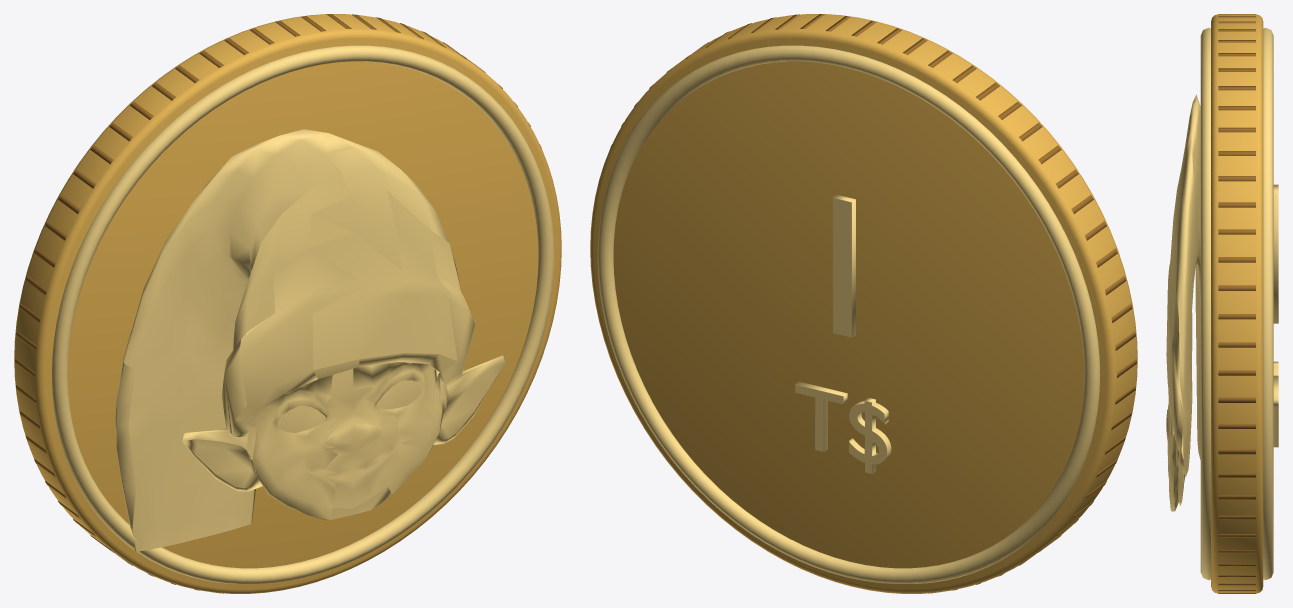
Rendered from coin-1.glb.
3 views of the same model, side by side, from view 1: azimuth 30°, elevation 25°; view 2: azimuth 150°, elevation 25°; view 3: azimuth 270°, elevation 25° (orthographic). The views are drawn at different scales.
Visible parts, largest first — view 1: GEO-Portrait_saci, GoldenBlank, ReededEdge_0; view 2: GoldenBlank, GEO-Portrait_saci, ReededEdge_0; view 3: GoldenBlank, GEO-Portrait_saci, ReededEdge_0.
Boxes of the visible parts, box(x1,y1,x2,y2) form: GEO-Portrait_saci: box(51, 45, 554, 583); GoldenBlank: box(14, 14, 561, 593); ReededEdge_0: box(15, 14, 541, 593); GoldenBlank: box(590, 14, 1137, 593); GEO-Portrait_saci: box(597, 45, 1100, 583); ReededEdge_0: box(610, 14, 1136, 593); GoldenBlank: box(1211, 14, 1263, 593); GEO-Portrait_saci: box(1166, 27, 1278, 580); ReededEdge_0: box(1218, 14, 1255, 593).
Size of the model in its own units: 2 by 2 by 0.3885.
